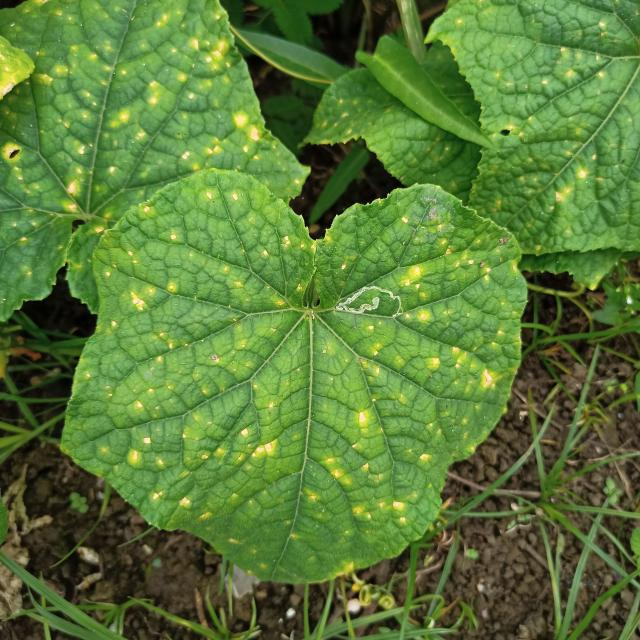disease_cucumber: (101, 191, 496, 570), (1, 5, 266, 257)
